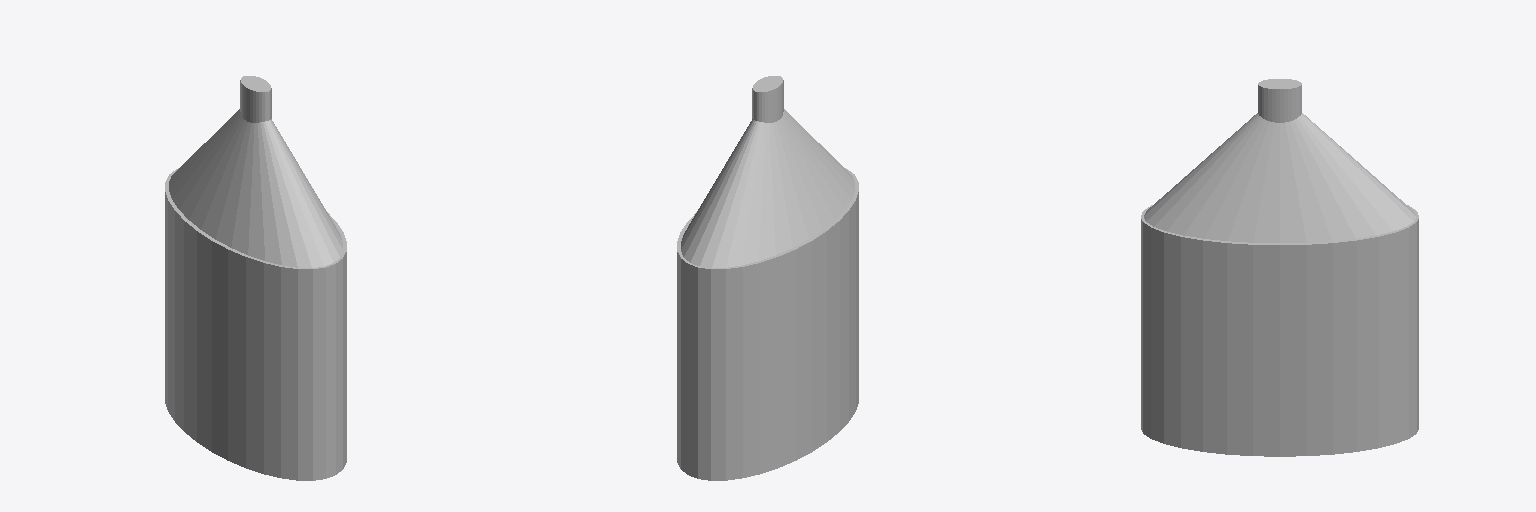
The model's file is mybottle2.obj.
3 views of the same model, side by side, from view 1: azimuth 30°, elevation 25°; view 2: azimuth 150°, elevation 25°; view 3: azimuth 270°, elevation 25° (orthographic).
Visible parts, largest first — view 1: Cylinder.001; view 2: Cylinder.001; view 3: Cylinder.001.
Boxes of the visible parts, box(x1,y1,x2,y2) form: Cylinder.001: box(165, 76, 346, 480); Cylinder.001: box(677, 76, 858, 480); Cylinder.001: box(1141, 79, 1418, 456).
Bounding box in the file's own units: 0.0661 × 0.1839 × 0.1351.